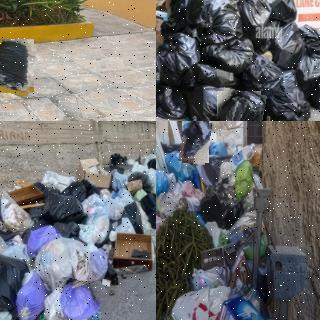Garbage: (33, 237, 89, 284), (260, 73, 310, 121), (197, 177, 243, 227), (156, 33, 200, 81), (171, 286, 233, 320), (201, 30, 254, 69), (0, 37, 36, 93), (57, 279, 102, 320), (0, 252, 26, 320), (187, 83, 232, 121), (15, 269, 47, 320), (214, 89, 264, 121), (269, 22, 303, 69), (43, 188, 85, 224), (190, 0, 237, 31), (297, 48, 320, 109), (162, 149, 200, 185), (180, 121, 210, 164), (169, 0, 203, 29), (296, 23, 320, 58), (237, 0, 270, 25), (234, 160, 252, 198), (138, 192, 156, 225), (271, 0, 295, 23), (156, 165, 170, 196)
